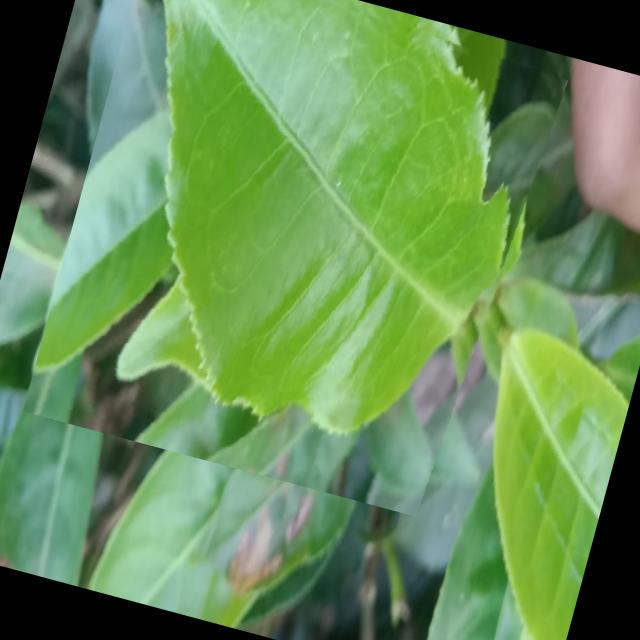Category B(2-4 days): (22, 0, 573, 524)
